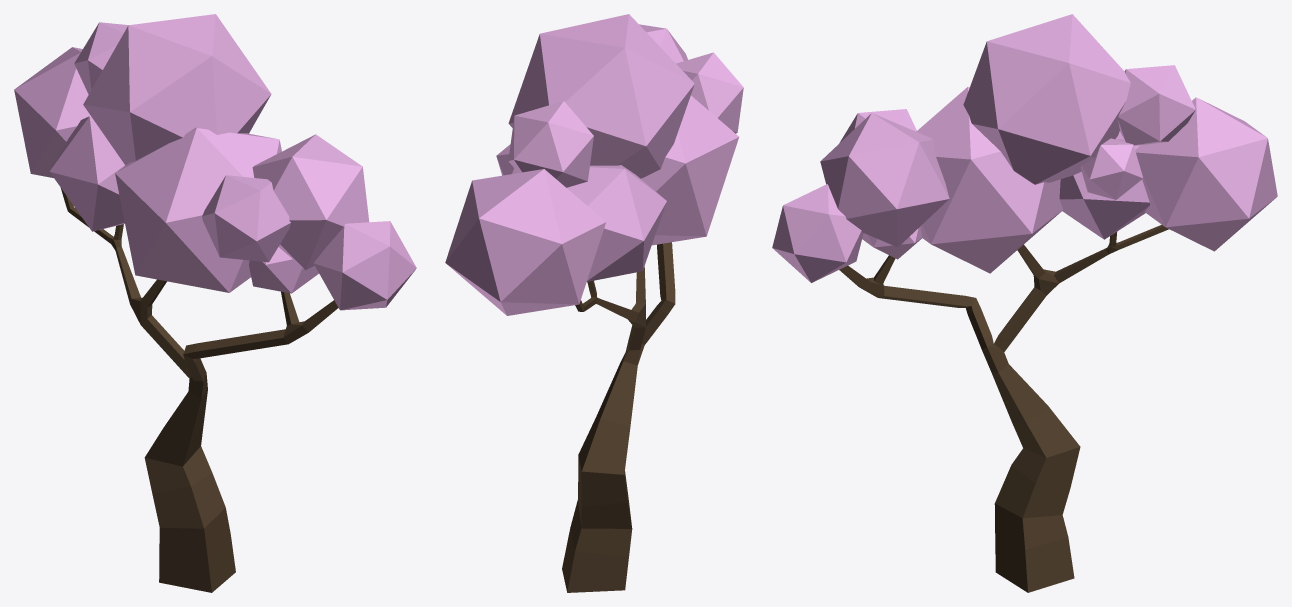
Rendered from Sakura.glb.
3 renders of one model, left to right at view 1: azimuth 30°, elevation 25°; view 2: azimuth 150°, elevation 25°; view 3: azimuth 270°, elevation 25°, orthographic. The views are drawn at different scales.
Parts seen in each view (by area): view 1: Tree_Crown_7, Tree-base, Tree_Crown_2, Tree_Crown_6, Tree_Crown_1, Tree_Crown_5, Tree_Crown_8, Tree_Crown_4, Tree_Crown_3, Tree_Crown_8.001; view 2: Tree_Crown_7, Tree_Crown_5, Tree-base, Tree_Crown_2, Tree_Crown_4, Tree_Crown_8.001, Tree_Crown_8, Tree_Crown_6; view 3: Tree-base, Tree_Crown_7, Tree_Crown_5, Tree_Crown_2, Tree_Crown_6, Tree_Crown_1, Tree_Crown_8.001, Tree_Crown_4, Tree_Crown_8.002, Tree_Crown_8, Tree_Crown_3.
Part boxes in pixels (x1,y1,x2,y2): Tree_Crown_7: (83,14,271,165); Tree-base: (61,188,338,592); Tree_Crown_2: (115,127,281,292); Tree_Crown_6: (252,134,369,270); Tree_Crown_1: (313,221,416,310); Tree_Crown_5: (14,47,90,177); Tree_Crown_8: (202,175,290,262); Tree_Crown_4: (49,116,125,231); Tree_Crown_3: (249,247,318,293); Tree_Crown_8.001: (74,22,128,94); Tree_Crown_7: (508,14,694,178); Tree_Crown_5: (445,169,605,315); Tree-base: (562,242,675,592); Tree_Crown_2: (641,95,738,245); Tree_Crown_4: (567,165,666,281); Tree_Crown_8.001: (508,101,593,187); Tree_Crown_8: (676,52,743,133); Tree_Crown_6: (639,24,687,63); Tree-base: (839,224,1168,592); Tree_Crown_7: (963,14,1130,184); Tree_Crown_5: (1135,97,1277,251); Tree_Crown_2: (916,87,1062,273); Tree_Crown_6: (820,113,949,247); Tree_Crown_1: (772,184,863,282); Tree_Crown_8.001: (1118,65,1195,145); Tree_Crown_4: (1059,131,1149,239); Tree_Crown_8.002: (1080,138,1143,199); Tree_Crown_8: (839,109,916,142); Tree_Crown_3: (862,227,922,259).
Bounding box in the file's own units: 0.425 × 1.15 × 0.976.
